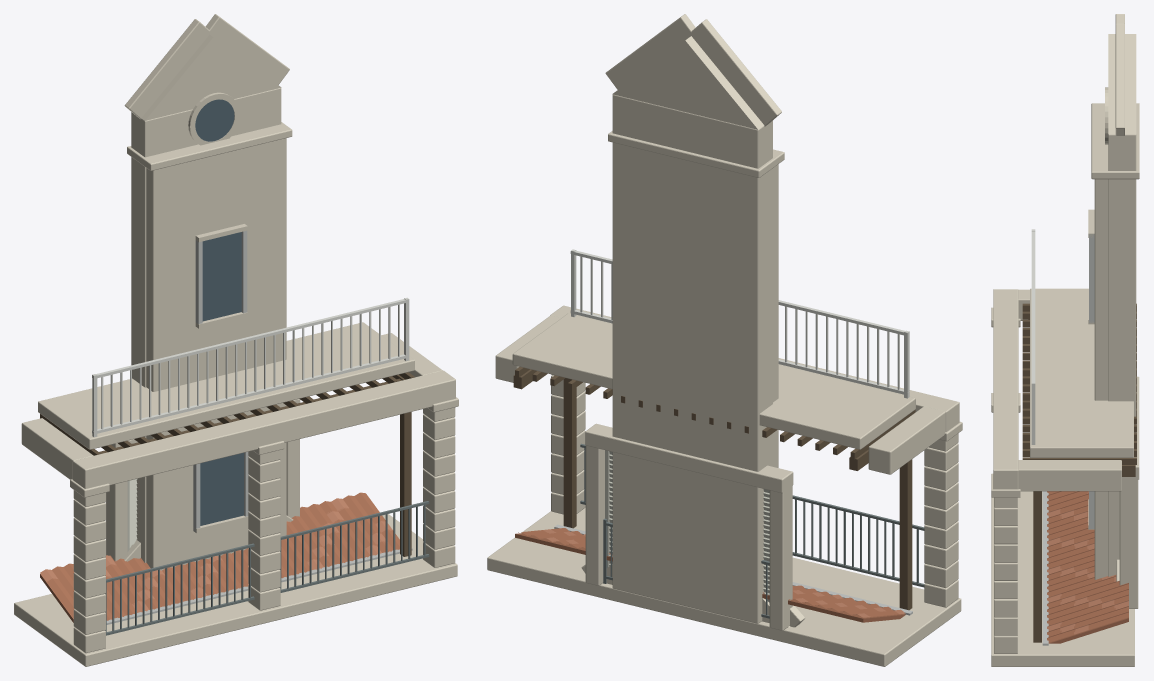
File: neighborhood_facades.glb
The picture shows the model from 3 angles, left to right: view 1: azimuth 30°, elevation 25°; view 2: azimuth 150°, elevation 25°; view 3: azimuth 270°, elevation 25°; orthographic projection. The views are drawn at different scales.
Visible parts, largest first — view 1: Portico_Limestone, TzvieliTower_Limestone, MishaelTower_Limestone, TerraceBalcony_Limestone, TiledCanopy_Terracotta, TerraceBalcony_PaleBalconyMetal, Portico_PaintedMetal, TzvieliTower_WindowGlass, EntryPergola_PergolaTimber, GarageGate_Limestone, TzvieliTower_Aluminium, TiledCanopy_TerracottaLight (+3 smaller); view 2: MishaelTower_Limestone, Portico_Limestone, TerraceBalcony_Limestone, GarageGate_Limestone, TzvieliTower_Limestone, EntryPergola_PergolaTimber, TerraceBalcony_PaleBalconyMetal, Portico_PaintedMetal, TiledCanopy_Terracotta, GarageGate_GateEnamel; view 3: Portico_Limestone, TerraceBalcony_Limestone, MishaelTower_Limestone, TiledCanopy_Terracotta, TzvieliTower_Limestone, EntryPergola_PergolaTimber, GarageGate_Limestone, TiledCanopy_TerracottaLight, TerraceBalcony_PaleBalconyMetal, TiledCanopy_Aluminium, TzvieliTower_Aluminium.
Part boxes in pixels (left/top/right/bottom): Portico_Limestone: left=14, top=333, right=458, bottom=666; TzvieliTower_Limestone: left=127, top=122, right=292, bottom=570; MishaelTower_Limestone: left=124, top=14, right=289, bottom=562; TerraceBalcony_Limestone: left=38, top=322, right=414, bottom=630; TiledCanopy_Terracotta: left=40, top=492, right=399, bottom=622; TerraceBalcony_PaleBalconyMetal: left=92, top=297, right=409, bottom=437; Portico_PaintedMetal: left=105, top=501, right=429, bottom=635; TzvieliTower_WindowGlass: left=200, top=232, right=243, bottom=525; EntryPergola_PergolaTimber: left=40, top=372, right=414, bottom=556; GarageGate_Limestone: left=106, top=399, right=300, bottom=561; TzvieliTower_Aluminium: left=193, top=230, right=248, bottom=532; TiledCanopy_TerracottaLight: left=40, top=498, right=393, bottom=612; MishaelTower_Limestone: left=605, top=14, right=781, bottom=623; Portico_Limestone: left=487, top=305, right=962, bottom=666; TerraceBalcony_Limestone: left=512, top=313, right=915, bottom=647; GarageGate_Limestone: left=585, top=423, right=793, bottom=630; TzvieliTower_Limestone: left=608, top=131, right=784, bottom=623; EntryPergola_PergolaTimber: left=513, top=367, right=915, bottom=610; TerraceBalcony_PaleBalconyMetal: left=570, top=249, right=909, bottom=398; Portico_PaintedMetal: left=580, top=443, right=924, bottom=587; TiledCanopy_Terracotta: left=515, top=528, right=905, bottom=622; GarageGate_GateEnamel: left=605, top=450, right=769, bottom=603; Portico_Limestone: left=991, top=289, right=1134, bottom=666; TerraceBalcony_Limestone: left=1030, top=288, right=1133, bottom=643; MishaelTower_Limestone: left=1105, top=14, right=1136, bottom=576; TiledCanopy_Terracotta: left=1047, top=491, right=1128, bottom=643; TzvieliTower_Limestone: left=1088, top=103, right=1139, bottom=579; EntryPergola_PergolaTimber: left=1022, top=303, right=1136, bottom=642; GarageGate_Limestone: left=1119, top=376, right=1139, bottom=608; TiledCanopy_TerracottaLight: left=1047, top=491, right=1128, bottom=634; TerraceBalcony_PaleBalconyMetal: left=1031, top=229, right=1035, bottom=444; TiledCanopy_Aluminium: left=1042, top=491, right=1048, bottom=645; TzvieliTower_Aluminium: left=1089, top=234, right=1094, bottom=528.
Bounding box in the file's own units: 6.44 × 9.15 × 2.21.
